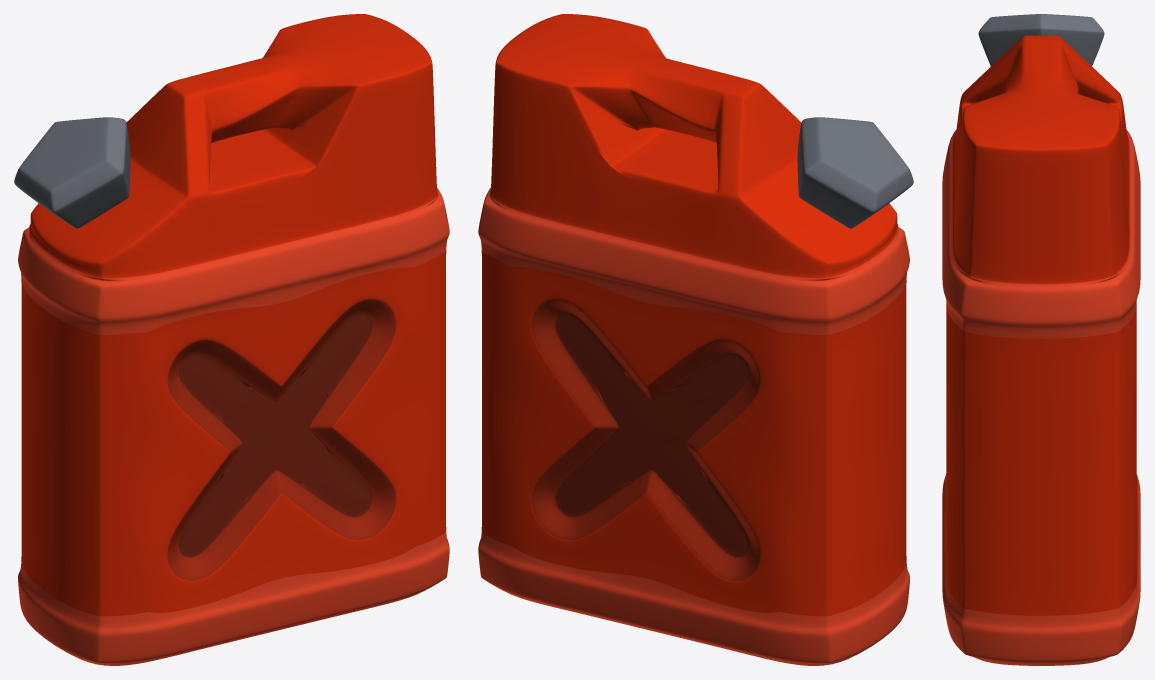
File: fueltank.glb
3 renders of one model, left to right at view 1: azimuth 30°, elevation 25°; view 2: azimuth 150°, elevation 25°; view 3: azimuth 270°, elevation 25°, orthographic.
Visible parts, largest first — view 1: FULETANK; view 2: FULETANK; view 3: FULETANK.
Boxes of the visible parts, x1,y1,x2,y2 form: FULETANK: [14, 14, 449, 665]; FULETANK: [478, 14, 913, 665]; FULETANK: [942, 14, 1140, 665].
Size of the model in its own units: 1.93 by 2.5 by 0.8596.
1 material, 1 textured.
